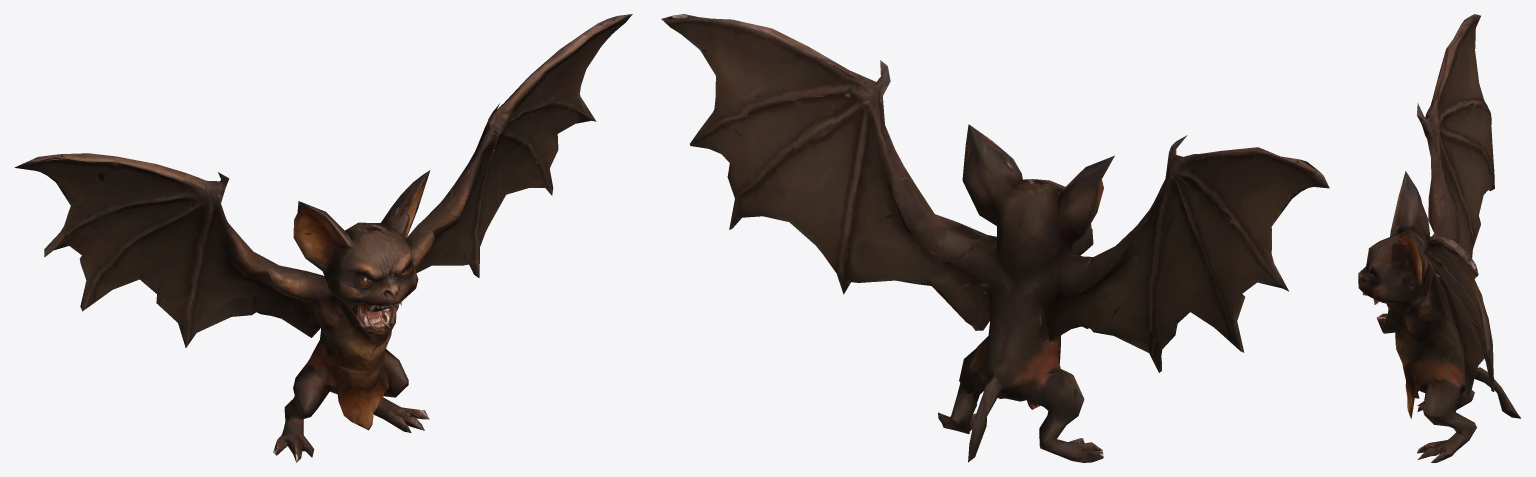
File: monster_74.glb
The picture shows the model from 3 angles, left to right: view 1: azimuth 30°, elevation 25°; view 2: azimuth 150°, elevation 25°; view 3: azimuth 270°, elevation 25°; orthographic projection. The views are drawn at different scales.
Parts seen in each view (by area): view 1: Vampire_Bat_0708154933_texture; view 2: Vampire_Bat_0708154933_texture; view 3: Vampire_Bat_0708154933_texture.
Part boxes in pixels (x1,y1,x2,y2): Vampire_Bat_0708154933_texture: (14, 14, 632, 462); Vampire_Bat_0708154933_texture: (661, 14, 1329, 462); Vampire_Bat_0708154933_texture: (1358, 14, 1520, 462).
Size of the model in its own units: 1.99 by 1.04 by 0.5221.
1 material, 1 textured.
